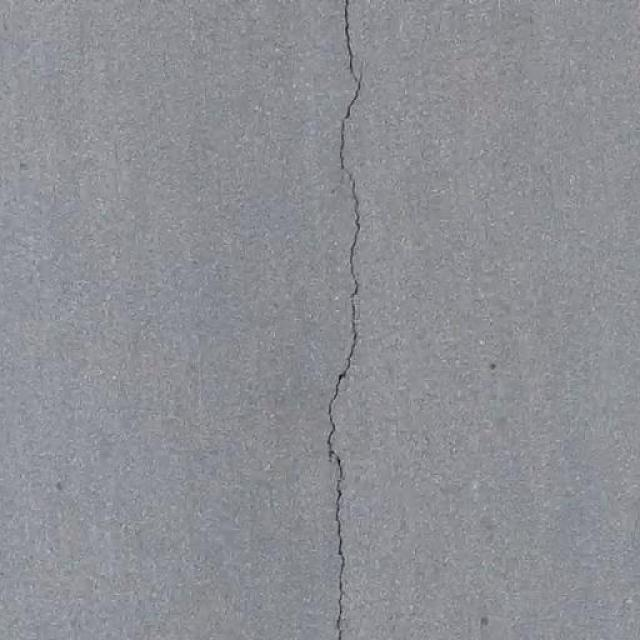Crack: (307, 14, 362, 544)
